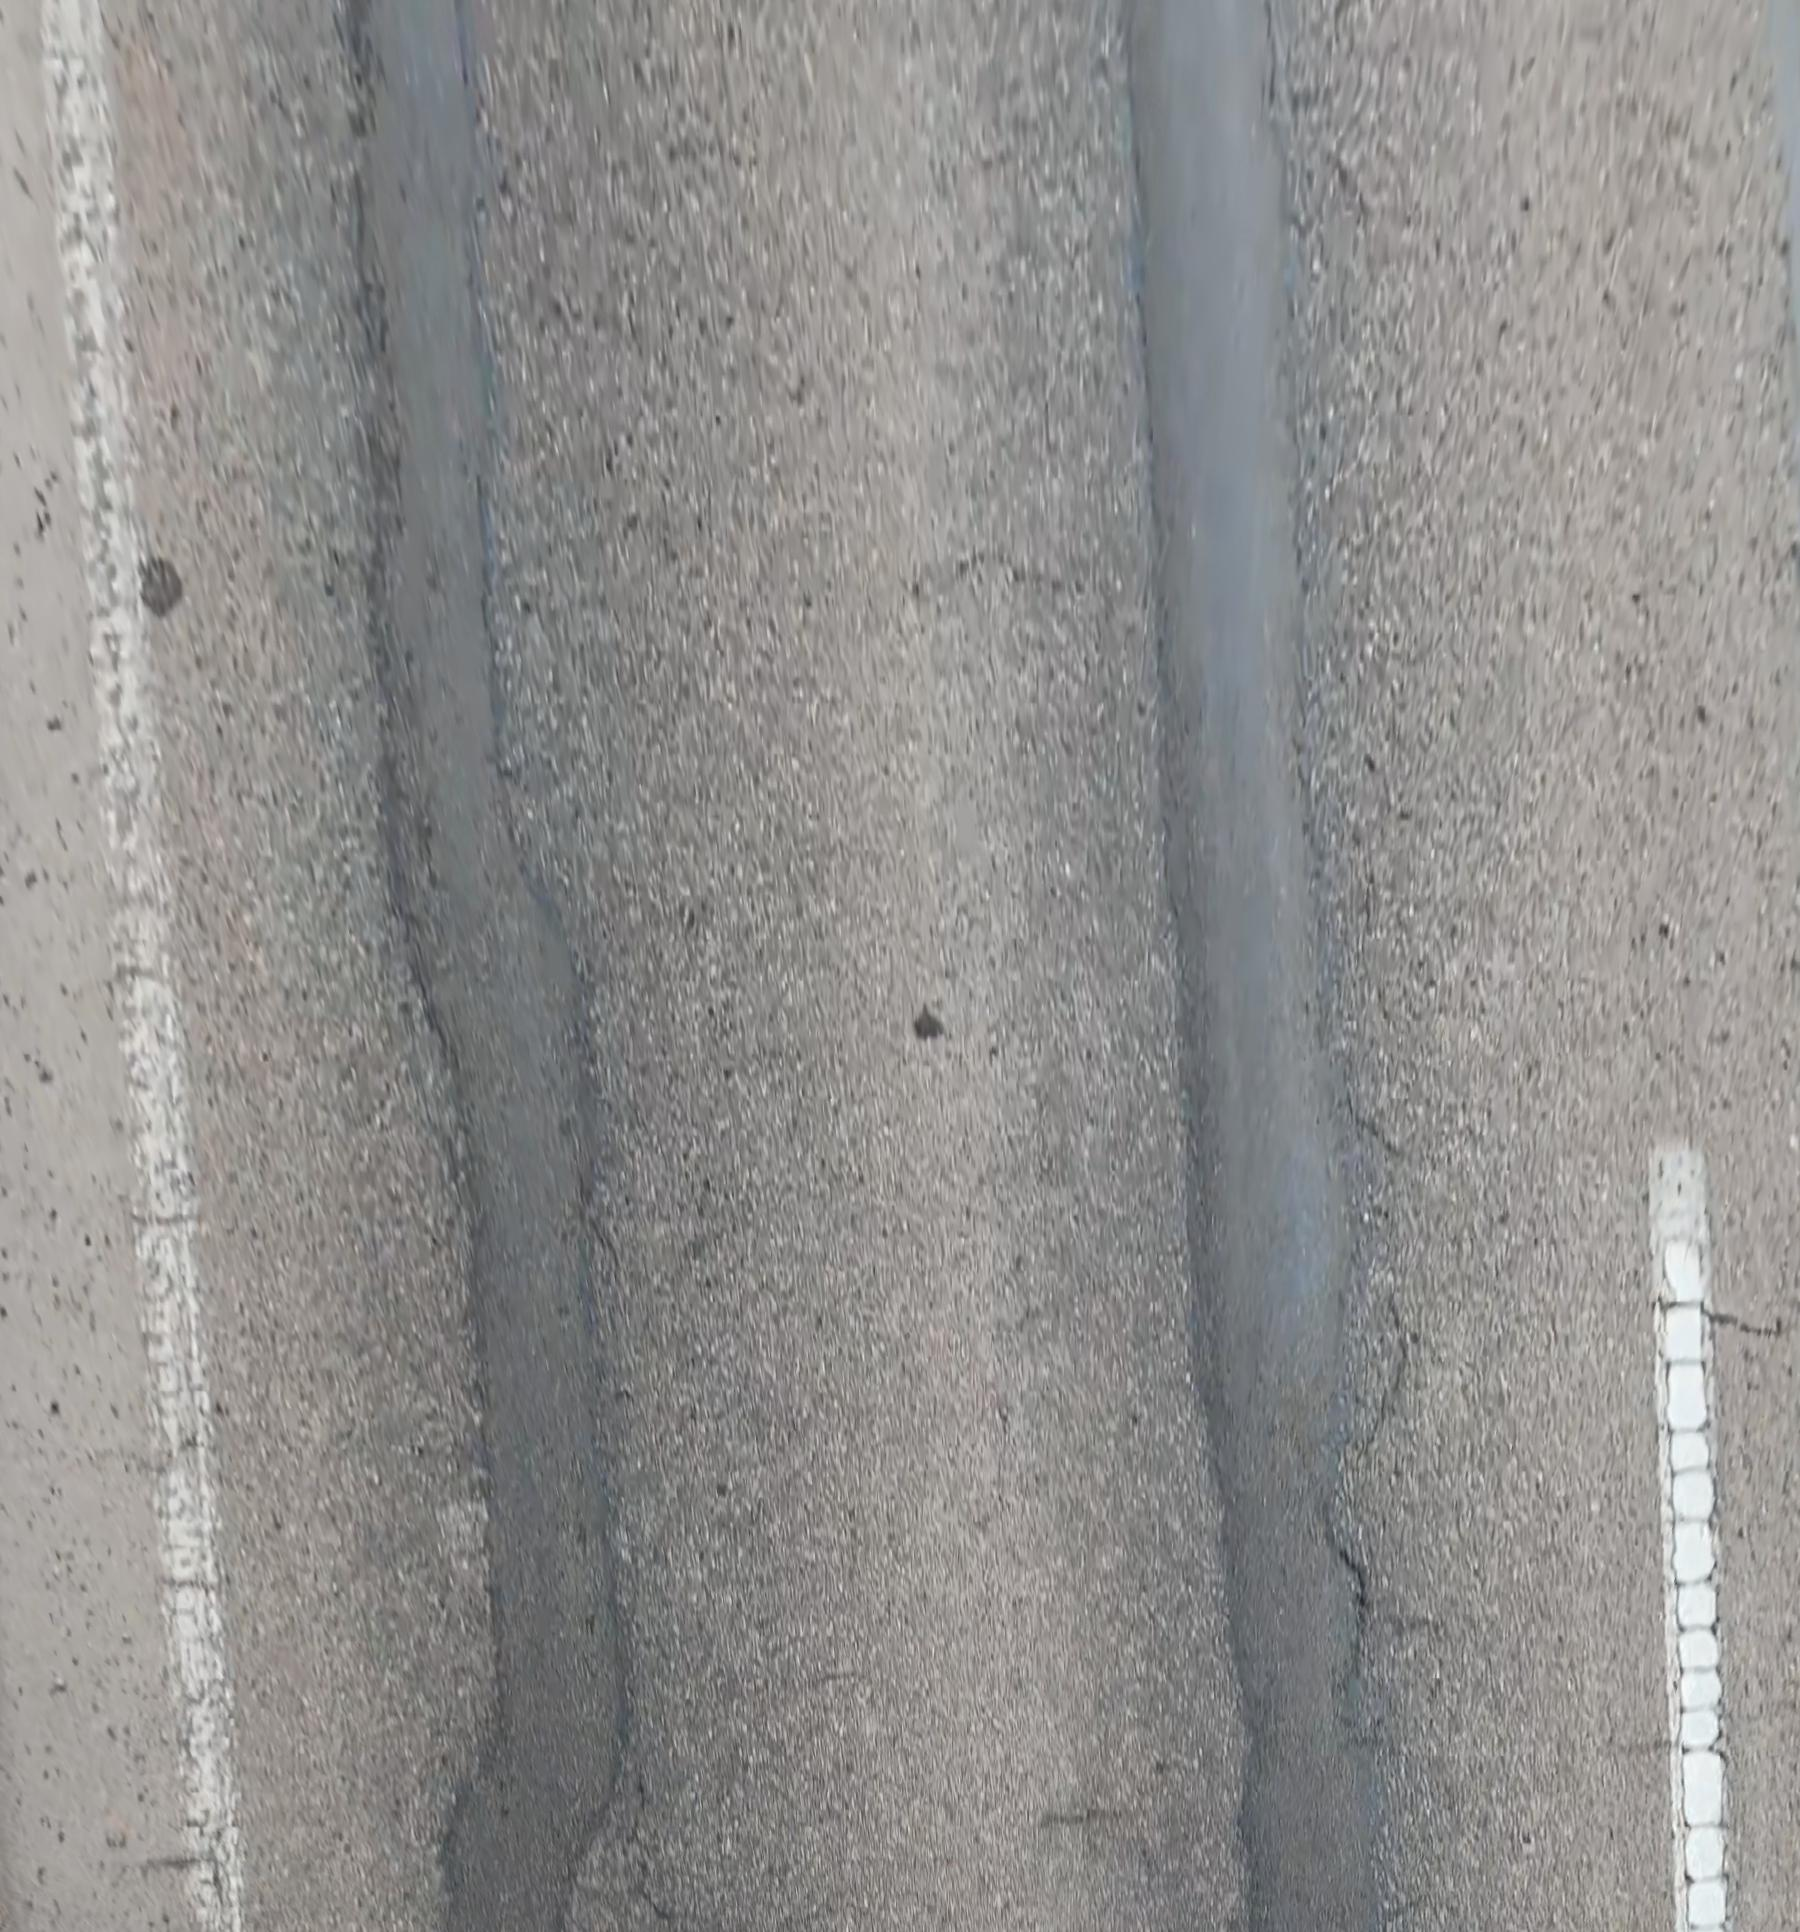pothole_patch_good: (355, 0, 628, 1932), (1132, 0, 1375, 1932)
